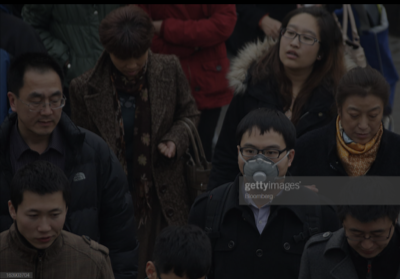with_mask: (237, 141, 290, 190)
without_mask: (18, 204, 69, 250), (18, 88, 64, 138), (278, 21, 322, 70), (342, 102, 385, 144), (346, 222, 393, 258), (112, 50, 149, 77)
